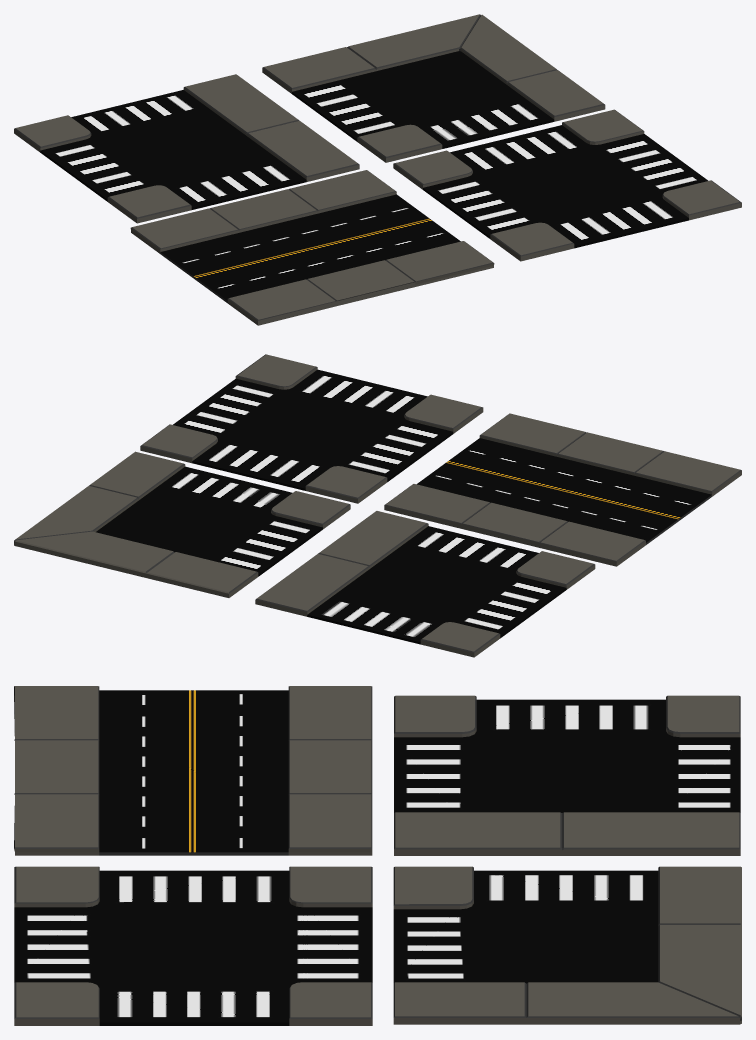
File: m_road_tiles_01.glb
The picture shows the model from 3 angles, top to bottom: view 1: azimuth 30°, elevation 25°; view 2: azimuth 150°, elevation 25°; view 3: azimuth 270°, elevation 25°; orthographic projection. The views are drawn at different scales.
Parts seen in each view (by area): view 1: Road, 4 Way Road, 2 Way Road, 3 Way Road; view 2: Road, 4 Way Road, 3 Way Road, 2 Way Road; view 3: Road, 4 Way Road, 3 Way Road, 2 Way Road.
Part boxes in pixels (x1=…): Road: x1=130, y1=170, x2=494, y2=325; 4 Way Road: x1=393, y1=109, x2=741, y2=261; 2 Way Road: x1=262, y1=14, x2=605, y2=162; 3 Way Road: x1=14, y1=74, x2=359, y2=223; Road: x1=384, y1=413, x2=741, y2=566; 4 Way Road: x1=140, y1=354, x2=483, y2=503; 3 Way Road: x1=255, y1=511, x2=595, y2=657; 2 Way Road: x1=14, y1=451, x2=350, y2=597; Road: x1=14, y1=686, x2=372, y2=855; 4 Way Road: x1=14, y1=866, x2=372, y2=1025; 3 Way Road: x1=394, y1=695, x2=740, y2=855; 2 Way Road: x1=393, y1=866, x2=741, y2=1024.
Bounding box in the file's own units: 3.93 × 0.043 × 3.63.
Materials: 4 (2 with a texture image).
